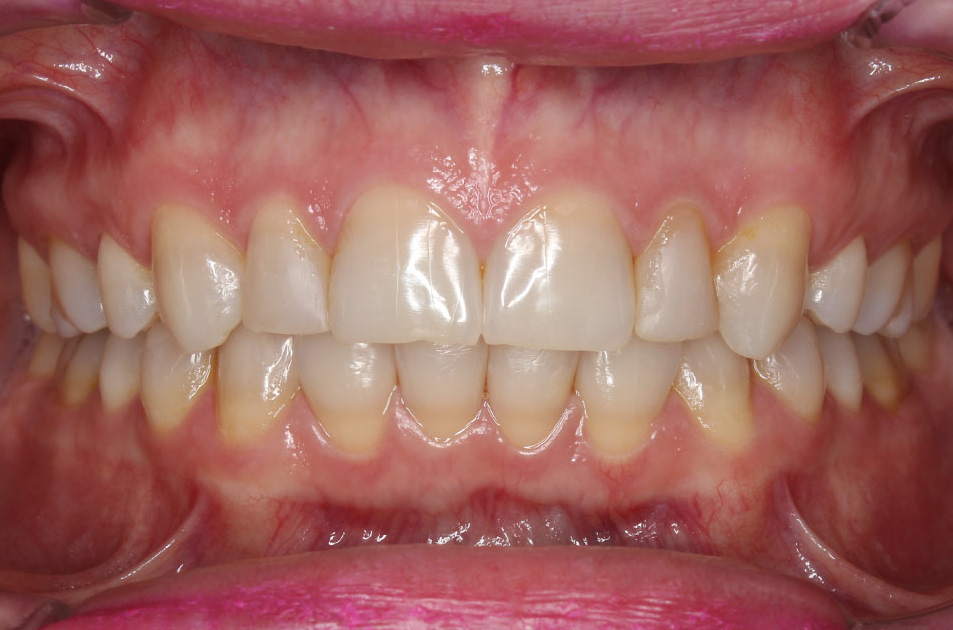LL1BC_healthy: (755, 342, 823, 416)
LL1M_mdecay: (862, 340, 909, 402)
LL2BC_healthy: (822, 334, 861, 415)
LLCI_healthy: (489, 351, 573, 443)
LLC_healthy: (682, 338, 751, 443)
LLLI_healthy: (579, 352, 666, 454)
LR1BC_mdecay: (141, 343, 211, 426)
LR1M_healthy: (58, 339, 95, 403)
LR2BC_healthy: (101, 340, 138, 408)
LRCI_healthy: (397, 341, 481, 437)
LRC_mdecay: (217, 342, 297, 441)
LRLI_healthy: (300, 337, 395, 448)
UL1BC_healthy: (808, 244, 866, 334)
UL2BC_healthy: (867, 250, 905, 335)
ULCI_healthy: (483, 199, 634, 351)
ULC_healthy: (719, 222, 808, 358)
ULLI_healthy: (635, 212, 719, 339)
UR1BC_healthy: (96, 234, 154, 338)
UR1M_mdecay: (19, 243, 51, 333)
UR2BC_healthy: (50, 248, 99, 334)
URCI_healthy: (329, 198, 481, 343)
URC_healthy: (155, 206, 242, 350)
URLI_healthy: (243, 204, 330, 329)
